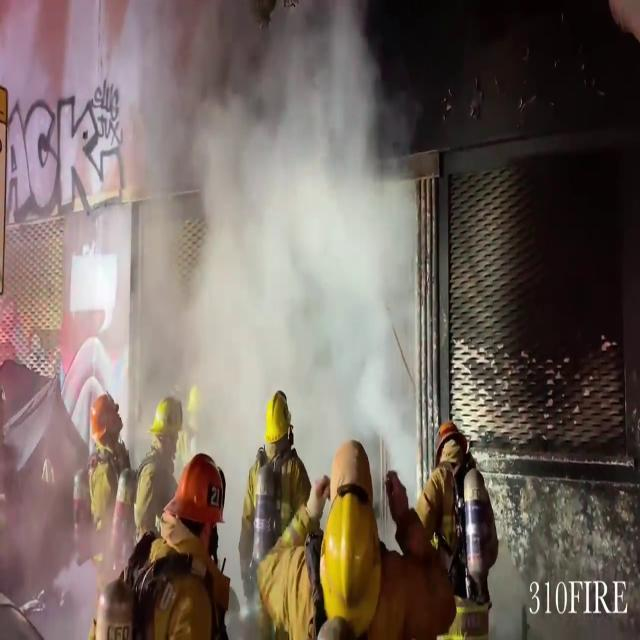Smoke: (81, 0, 428, 444)
